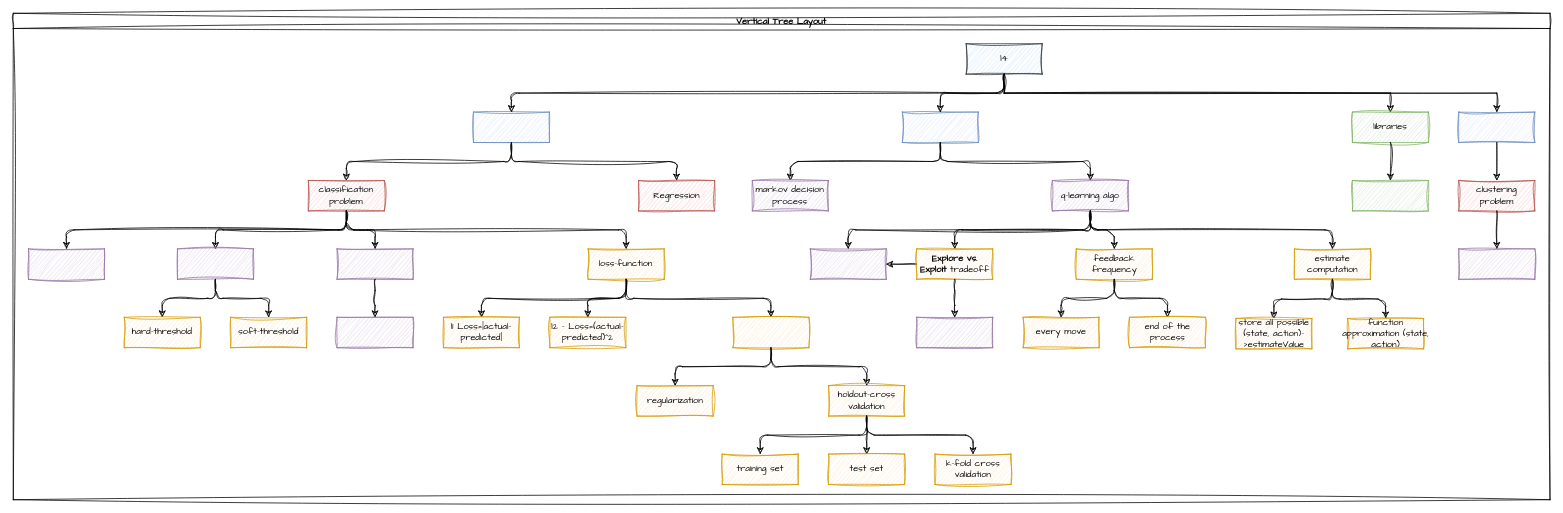
Image size: 1563x513. Some labels were removed from this diagram. The centre of each missing label's shape, as x and y in pixels:
Greedy Decision-Making: point (848, 263)
k-means Clustering algo: point (1496, 263)
k-nearest neighbor algo: point (66, 263)
max margin separator: point (374, 332)
Overfitting trainning problem: point (770, 332)
perceptron learning algo: point (215, 263)
reinforcement learning category: point (940, 126)
scikit-learn: point (1390, 195)
supervised learning category: point (511, 126)
support vectors algo: point (374, 263)
unsupervised learning: point (1496, 126)
ε (epsilon) greedy algorithm: point (954, 332)
